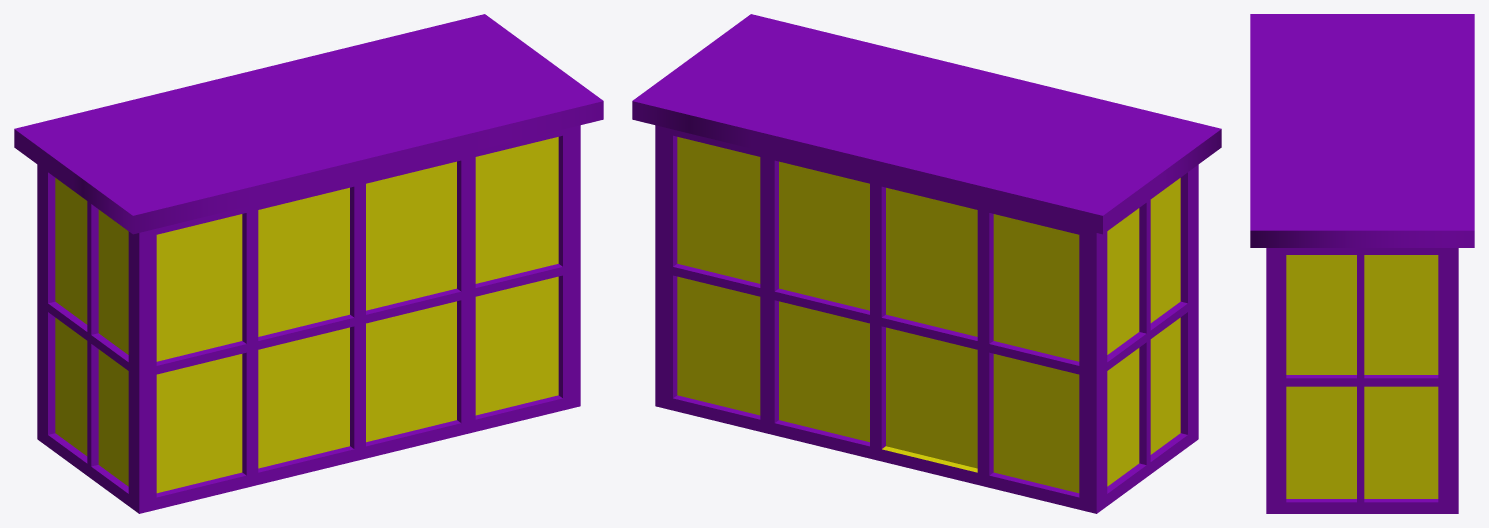
File: Building_Large_Side_003.fbx
The picture shows the model from 3 angles, left to right: view 1: azimuth 30°, elevation 25°; view 2: azimuth 150°, elevation 25°; view 3: azimuth 270°, elevation 25°; orthographic projection. The views are drawn at different scales.
Parts seen in each view (by area): view 1: Building_Large_Side_003; view 2: Building_Large_Side_003; view 3: Building_Large_Side_003.
Boxes of the visible parts, box(x1,y1,x2,y2) form: Building_Large_Side_003: box(14, 14, 603, 513); Building_Large_Side_003: box(632, 14, 1221, 513); Building_Large_Side_003: box(1250, 14, 1474, 513).
Size of the model in its own units: 6400 by 4000 by 2800.
